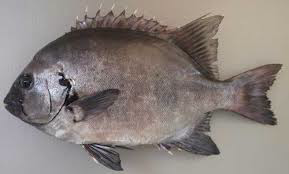azi: (9, 21, 251, 157)
